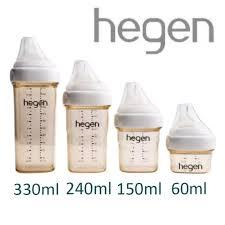BIODEGRADABLE: (7, 36, 61, 182)
